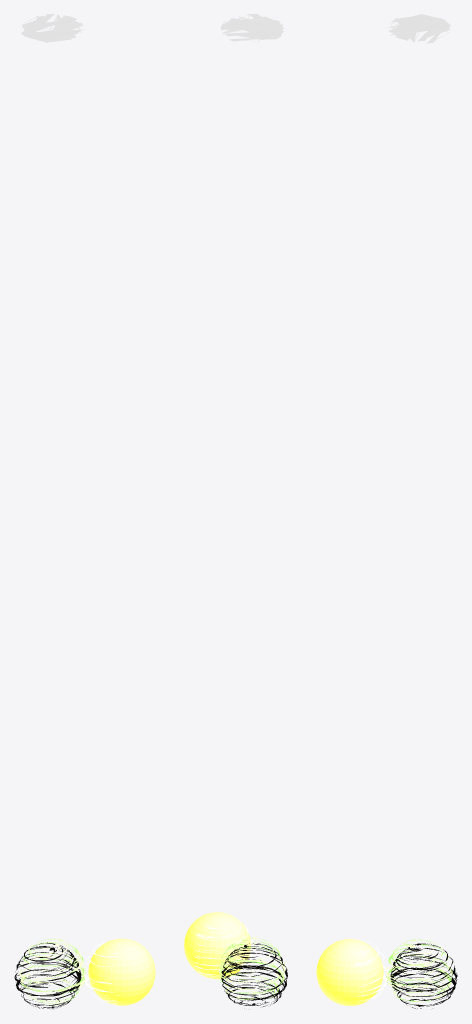
Rendered from orb-core.glb.
3 renders of one model, left to right at view 1: azimuth 90°, elevation 25°; view 2: azimuth 210°, elevation 25°; view 3: azimuth 270°, elevation 25°, orthographic.
Visible parts, largest first — view 1: orb-core; view 2: orb-core; view 3: orb-core.
Boxes of the visible parts, x1,y1,x2,y2 form: orb-core: (14, 14, 155, 1008); orb-core: (184, 14, 287, 1006); orb-core: (316, 14, 457, 1008).
Size of the model in its own units: 0.0101 by 0.1631 by 0.0213.
